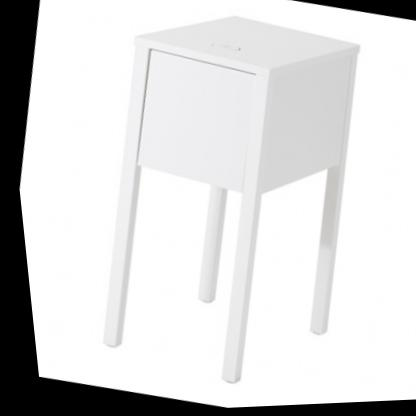Table: (55, 0, 396, 413)
